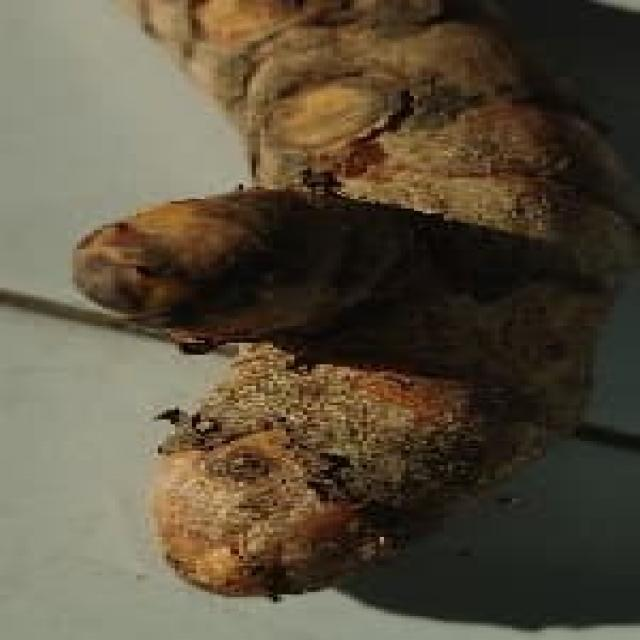ginger: (101, 0, 612, 591)
